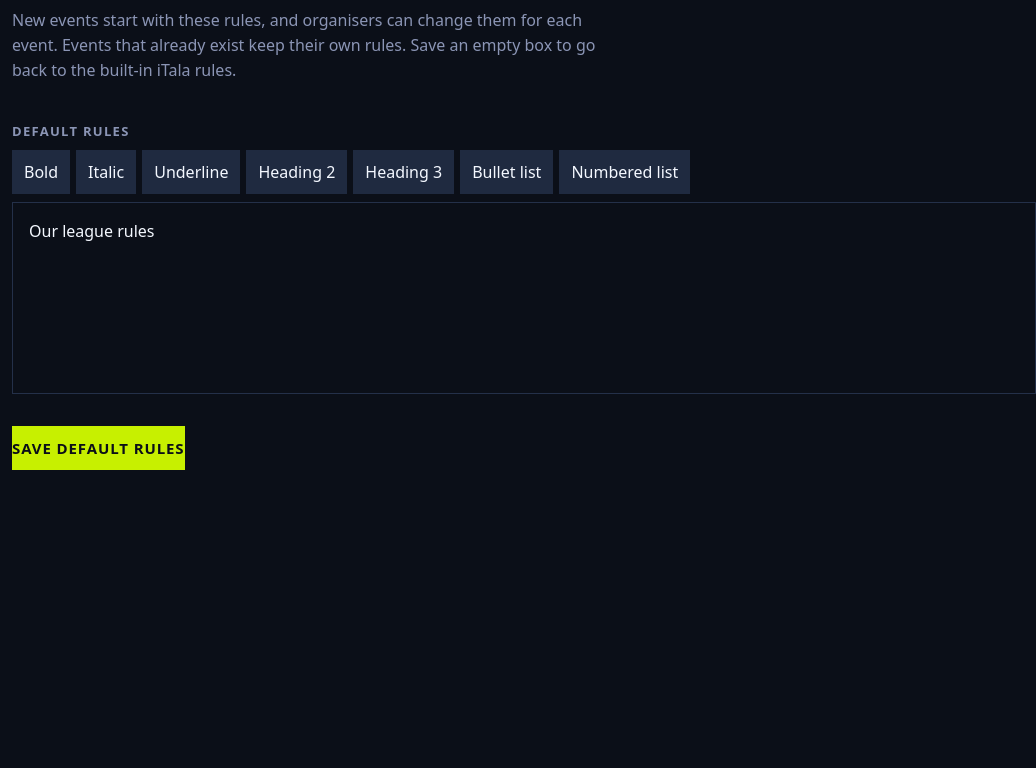
Test: Default rules (S-02) › an edit is unsaved until Save, which sends the rules and says new events will use them
This screenshot has width=1036, height=768.
Click the field named "Default rules" at (524, 298), box [12,202,1035,394]
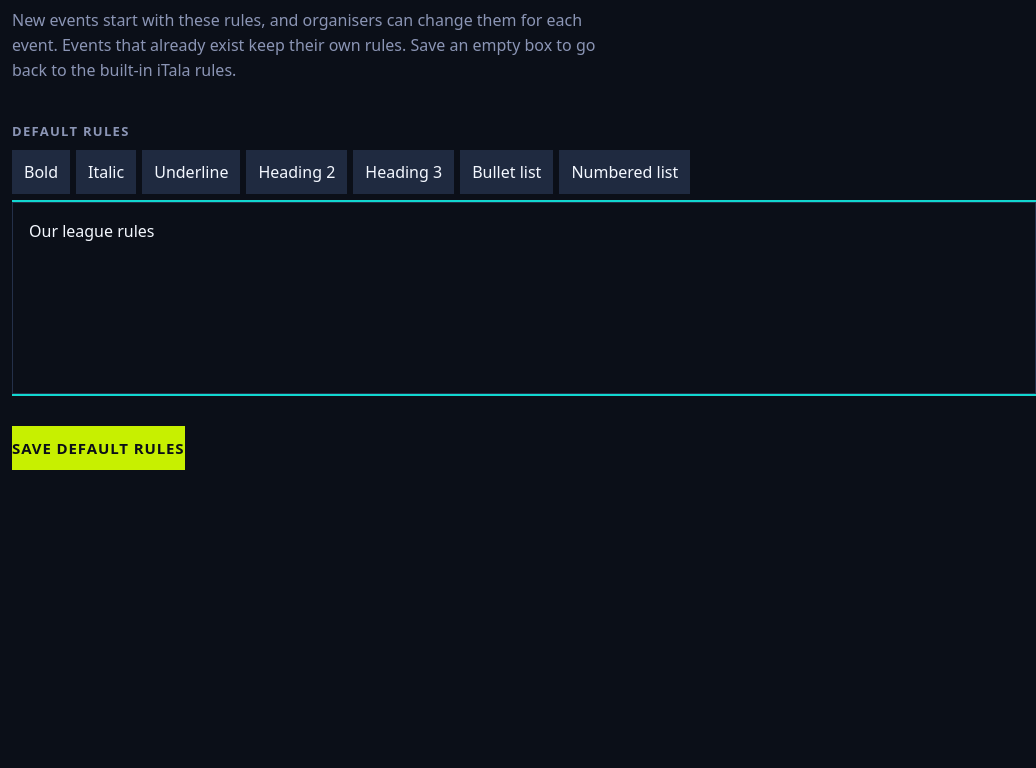
Type keys "{Control>}a{/Control}"
Click the button "Bold" at (41, 172), box [12,150,70,194]
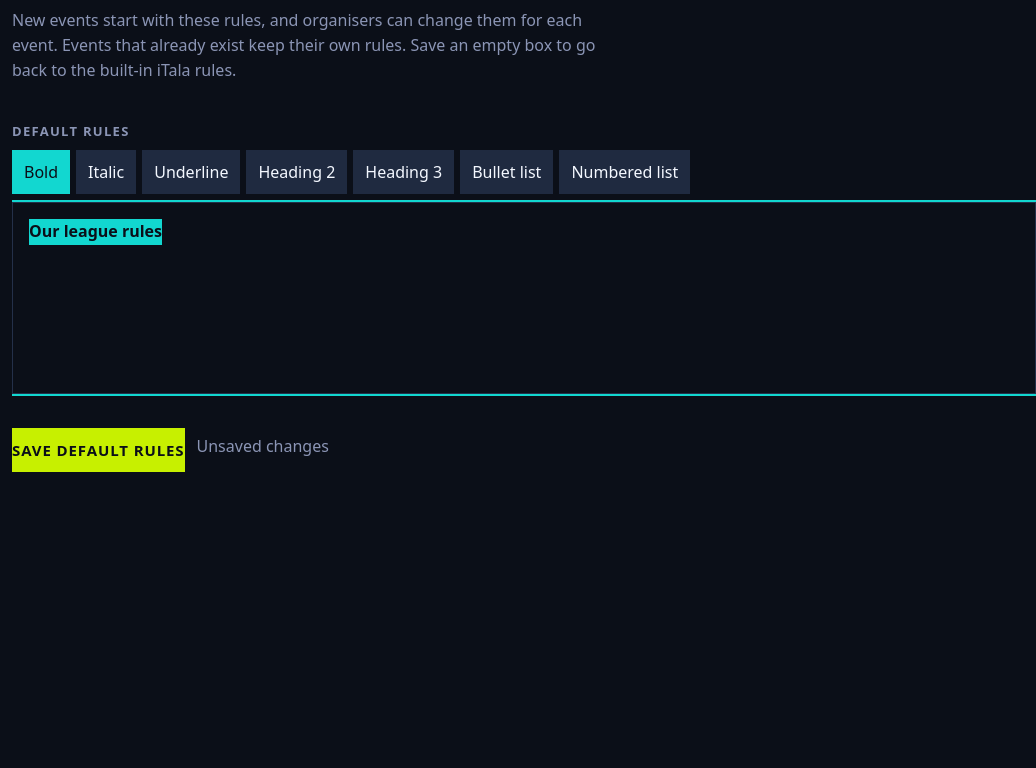
Expected: the text "Unsaved changes" is shown, [196,434,329,459]
Click the button "Save default rules" at (98, 450), box [12,428,184,472]
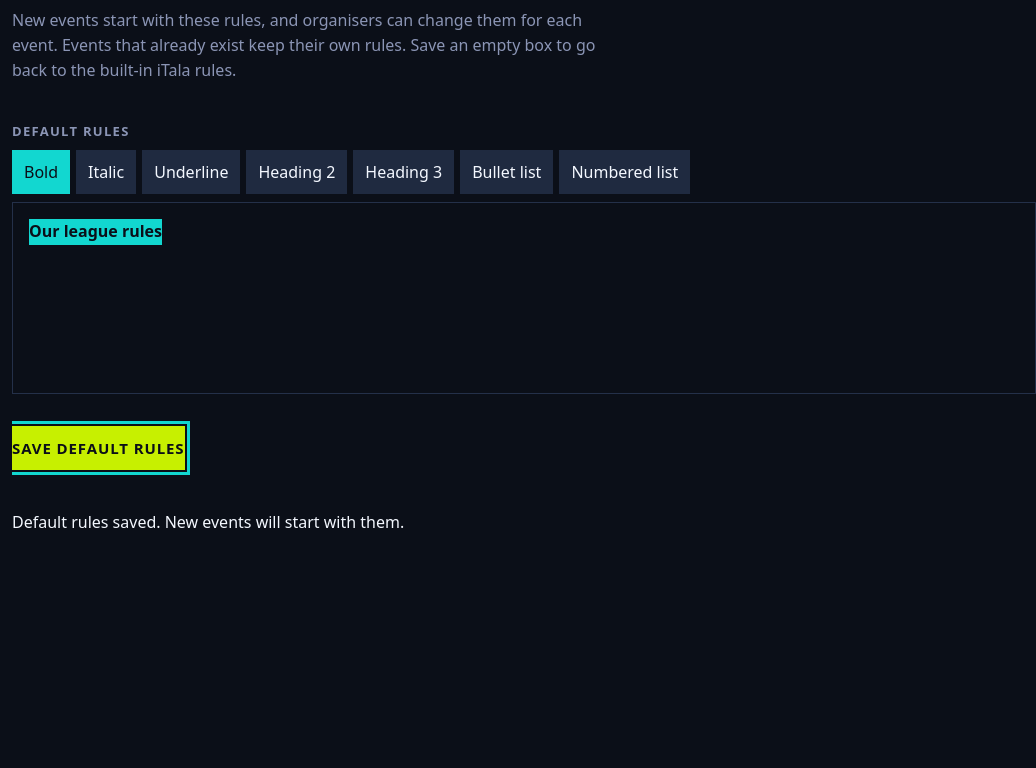
Expected: the text "Default rules saved. New events will start with them." is shown, [12,511,404,533]
Expected: the text "Unsaved changes" is gone
